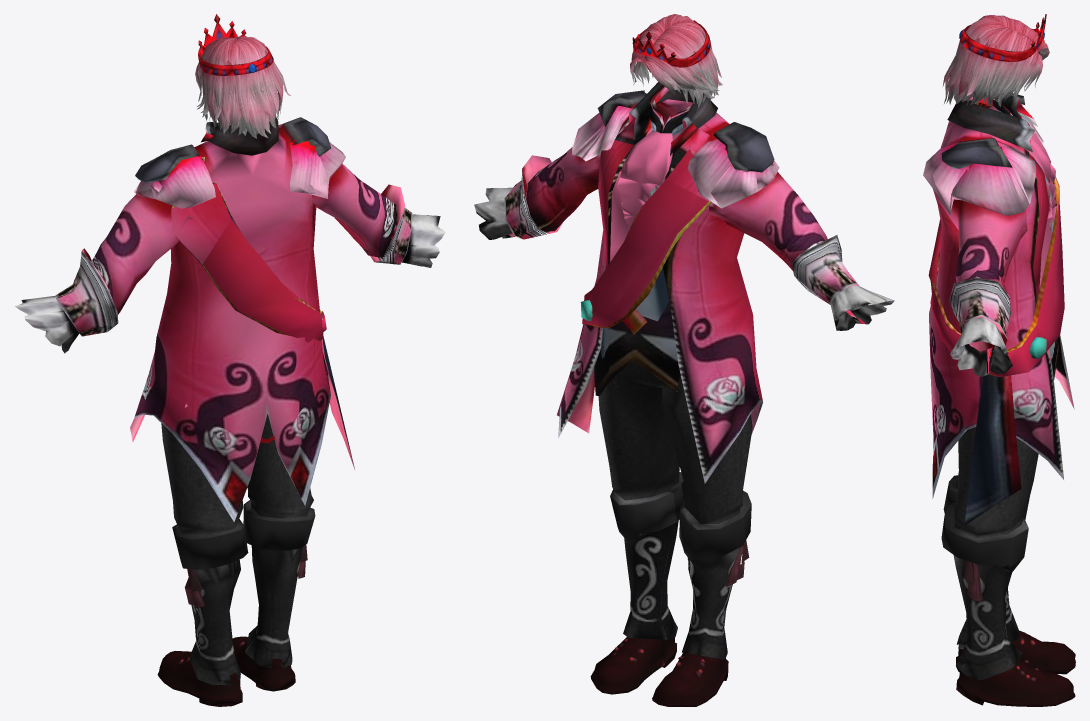
Rendered from LAST CLOTH .fbx.
3 renders of one model, left to right at view 1: azimuth 30°, elevation 25°; view 2: azimuth 150°, elevation 25°; view 3: azimuth 270°, elevation 25°, orthographic. The views are drawn at different scales.
Parts seen in each view (by area): view 1: LAST MALE CLOTH; view 2: LAST MALE CLOTH; view 3: LAST MALE CLOTH.
Part boxes in pixels (x1,y1,x2,y2): LAST MALE CLOTH: (15,14,445,706); LAST MALE CLOTH: (474,14,894,706); LAST MALE CLOTH: (923,14,1075,706).
Bounding box in the file's own units: 96.2 × 146 × 30.33.
Materials: 1 (1 with a texture image).
